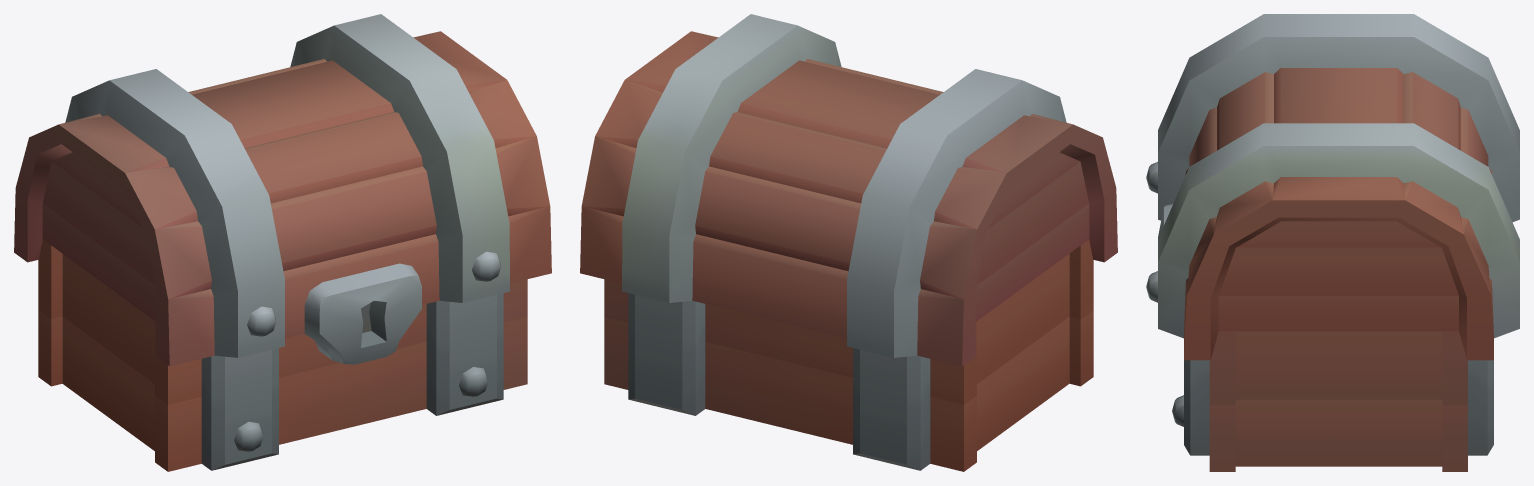
Rendered from chest.glb.
3 renders of one model, left to right at view 1: azimuth 30°, elevation 25°; view 2: azimuth 150°, elevation 25°; view 3: azimuth 270°, elevation 25°, orthographic.
Visible parts, largest first — view 1: chest_gold; view 2: chest_gold; view 3: chest_gold.
Boxes of the visible parts, box(x1,y1,x2,y2) form: chest_gold: box(14, 14, 551, 471); chest_gold: box(580, 14, 1117, 471); chest_gold: box(1146, 14, 1519, 471).
Size of the model in its own units: 1.7 by 1.3 by 1.45.
1 material, 1 textured.
